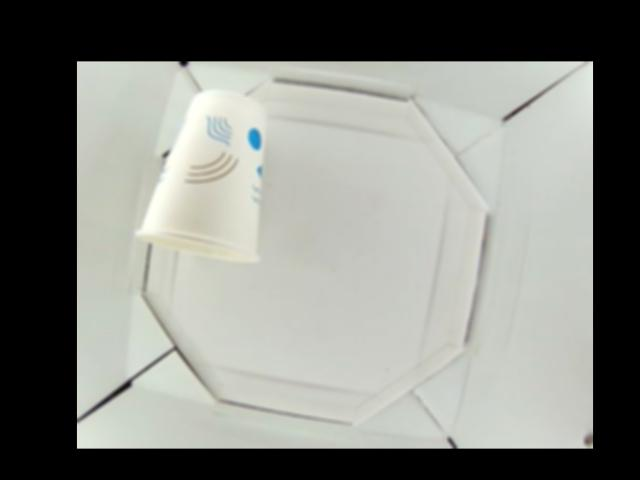Cup: (137, 88, 269, 266)
